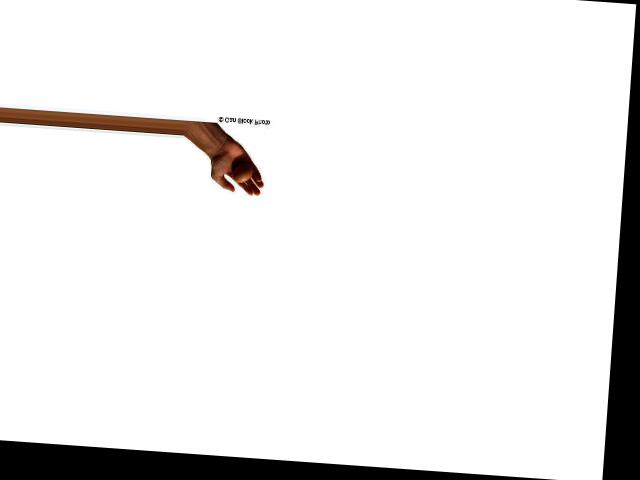egg: (233, 162, 254, 182)
